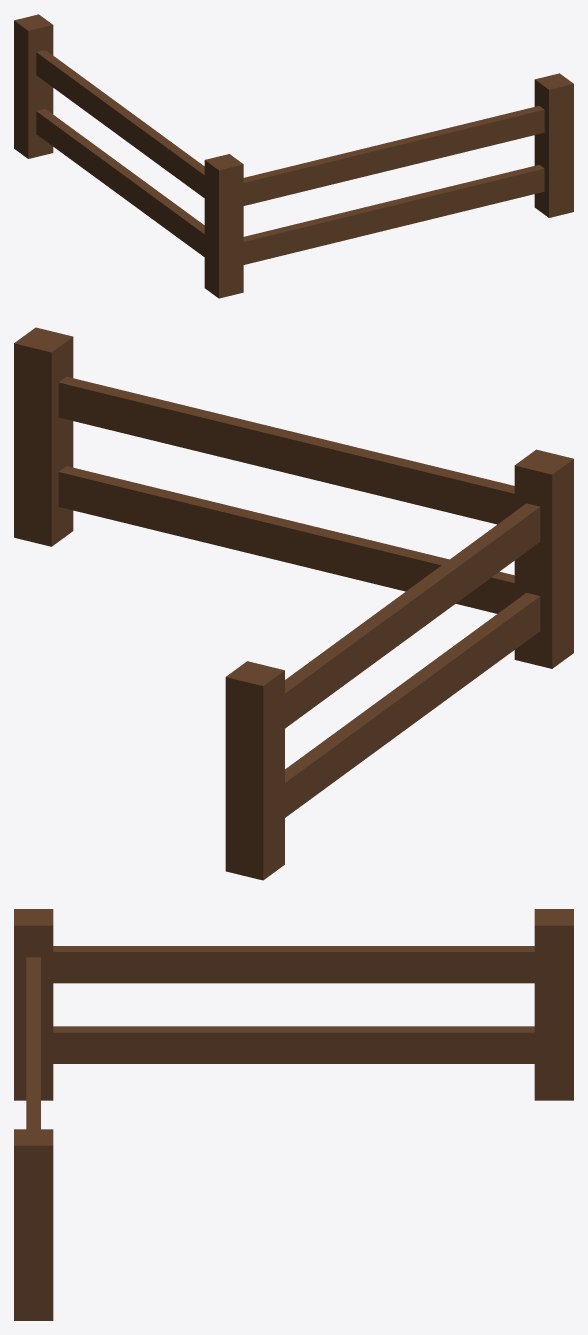
File: kenney_nature-kit__fence_corner__cave.fbx
The picture shows the model from 3 angles, top to bottom: view 1: azimuth 30°, elevation 25°; view 2: azimuth 150°, elevation 25°; view 3: azimuth 270°, elevation 25°; orthographic projection. The views are drawn at different scales.
Visible parts, largest first — view 1: kenney_nature-kit__fence_corner__cave_wooddark_wood, kenney_nature-kit__fence_corner__cave_wood_wood; view 2: kenney_nature-kit__fence_corner__cave_wooddark_wood, kenney_nature-kit__fence_corner__cave_wood_wood; view 3: kenney_nature-kit__fence_corner__cave_wooddark_wood, kenney_nature-kit__fence_corner__cave_wood_wood.
Boxes of the visible parts, <box> form: kenney_nature-kit__fence_corner__cave_wooddark_wood: <box>36,52,544,264</box>; kenney_nature-kit__fence_corner__cave_wood_wood: <box>14,14,573,298</box>; kenney_nature-kit__fence_corner__cave_wooddark_wood: <box>58,382,540,817</box>; kenney_nature-kit__fence_corner__cave_wood_wood: <box>14,327,573,880</box>; kenney_nature-kit__fence_corner__cave_wooddark_wood: <box>53,952,534,1063</box>; kenney_nature-kit__fence_corner__cave_wood_wood: <box>14,909,573,1320</box>.
Bounding box in the file's own units: 3.57 × 1.23 × 3.57.
1 material, 1 textured.
